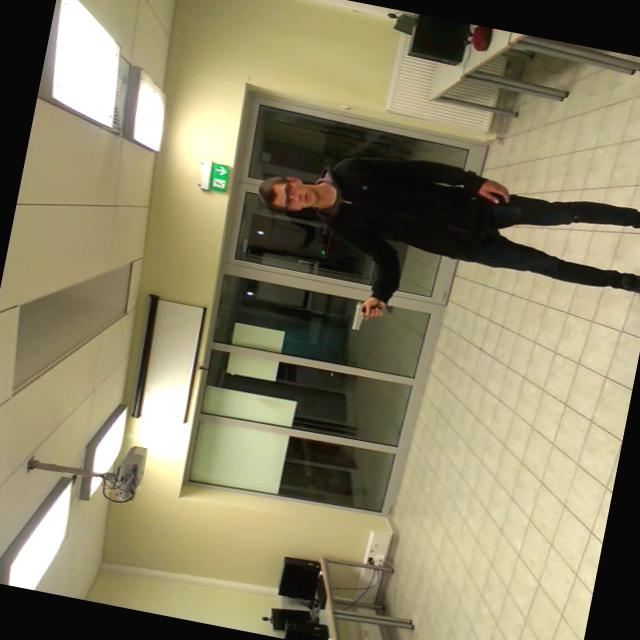handgun: (338, 290, 396, 338)
